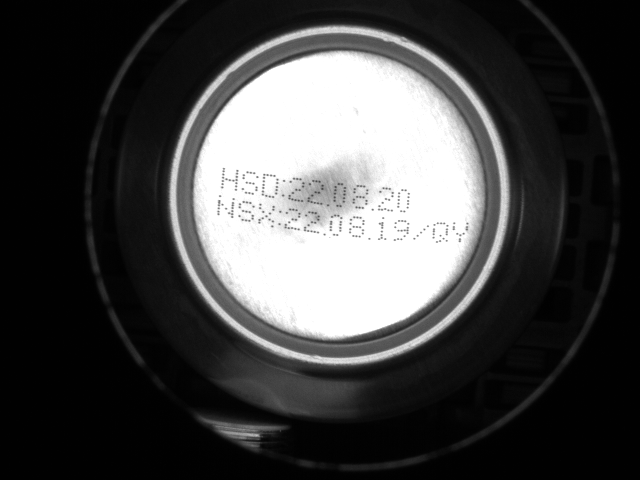/: (413, 222, 432, 246)
0: (324, 213, 349, 239), (396, 187, 415, 215), (331, 182, 350, 209)
1: (376, 216, 393, 243)
2: (307, 176, 331, 207), (375, 185, 399, 215), (285, 176, 308, 205), (283, 208, 306, 233), (306, 212, 324, 237)
8: (349, 213, 373, 238), (352, 182, 371, 209)
9: (394, 217, 413, 244)
D: (261, 174, 283, 200)
H: (218, 168, 239, 192)
N: (212, 195, 237, 221)
Q: (433, 221, 454, 245)
S: (239, 168, 262, 197), (238, 200, 258, 225)
X: (258, 201, 277, 226)
Y: (453, 221, 474, 246)
